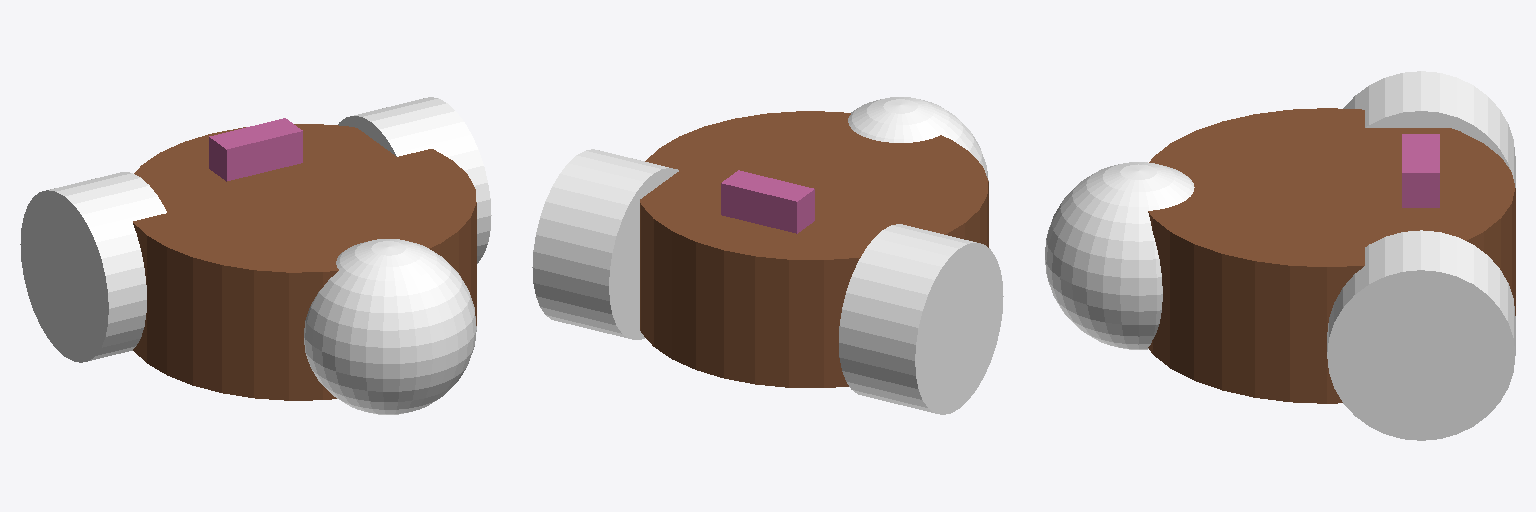
The robot description file, URDF, robot "boties":
<?xml version="1.0"?>

<robot name="boties">
	<material name="white">
		<color rgba="1 1 1 1"/>
	</material>
	<material name="brown">
		<color rgba="0.58 0.39 0.27 1"/>
	</material>
	<material name="pink">
		<color rgba="0.81 0.45 0.67 1"/>
	</material>
	<link name="base_link">
		<visual>
			<geometry>
				<cylinder length="0.08" radius="0.1"/>
			</geometry>
			<material name="brown"/>
		</visual>
		<collision>
			<geometry>
				<cylinder length="0.08" radius="0.1"/>
			</geometry>
		</collision>
		<inertial>
			<mass value="20"/>
			<inertia ixx="0.0168" iyy="0.0168" izz="0.01" ixy="0.0" ixz="0.0" iyz="0.0"/>
		</inertial>
	</link>
	<link name="dummy_link"></link>
	<link name="camera_link">
		<visual>
			<geometry>
				<box size="0.02 0.05 0.02"/>
			</geometry>
			<material name="pink"/>
		</visual>
		<collision>
			<geometry>
				<box size="0.02 0.05 0.02"/>
			</geometry>
		</collision>
	</link>
	<link name="left_wheel">
		<visual>
			<geometry>
				<cylinder length="0.05" radius="0.05"/>
			</geometry>
			<material name="white"/>
		</visual>
		<collision>
			<geometry>
				<cylinder length="0.05" radius="0.05"/>
			</geometry>
		</collision>
		<inertial>
			<mass value="10"/>
			<inertia ixx="0.00625" iyy="0.00625" izz="0.0125" ixy="0.0" ixz="0.0" iyz="0.0"/>
		</inertial>
	</link>
	<link name="right_wheel">
		<visual>
			<geometry>
				<cylinder length="0.05" radius="0.05"/>
			</geometry>
			<material name="white"/>
		</visual>
		<collision>
			<geometry>
				<cylinder length="0.05" radius="0.05"/>
			</geometry>
		</collision>
		<inertial>
			<mass value="10"/>
			<inertia ixx="0.00625" iyy="0.00625" izz="0.0125" ixy="0.0" ixz="0.0" iyz="0.0"/>
		</inertial>
	</link>
	<link name="sphere_link">
		<visual>
			<geometry>
				<sphere radius="0.05"/>
			</geometry>
			<material name="white"/>
		</visual>
		<collision>
			<geometry>
				<sphere radius="0.05"/>
			</geometry>
		</collision>
		<inertial>
			<mass value="20"/>
			<inertia ixx="0.0168" iyy="0.0168" izz="0.01" ixy="0.0" ixz="0.0" iyz="0.0"/>
		</inertial>
	</link>
	<joint name="dummy_joint" type="continuous">
		<parent link="base_link" />
		<child  link="dummy_link" />
	</joint>
	<joint name="camera_joint" type="fixed">
		<axis xyz="0 1 0"/>
		<parent link="base_link"/>
		<child link="camera_link"/>
		<origin rpy="0 0 1.57075" xyz="0 0.05 0.05"/>
	</joint>
	<joint name="baseToLeftWheel_joint" type="continuous">
		<axis   xyz="0 0 1"/>
		<parent link="base_link" />
		<child  link="left_wheel" />
		<origin rpy="0 1.57075 0" xyz="0.1 0.05 0" />
	</joint>
	<joint name="baseToRightWheel_joint" type="continuous">
		<axis   xyz="0 0 1"/>
		<parent link="base_link" />
		<child  link="right_wheel" />
		<origin rpy="0 1.57075 0" xyz="-0.1 0.05 0" />
	</joint>
	<joint name="baseToSphere_joint" type="continuous">
		<axis   xyz="1 1 1"/>
		<parent link="base_link" />
		<child  link="sphere_link" />
		<origin rpy="0 0 0" xyz="0 -0.1 0" />
	</joint>
	<transmission name="leftWheel_trans">
		<type>transmission_interface/SimpleTransmission</type>
		<actuator name="leftWheel_motor">
			<mechanicalReduction>1</mechanicalReduction>
		</actuator>
		<joint name="baseToLeftWheel_joint">
			<hardwareInterface>VelocityJointInterface</hardwareInterface>
		</joint>
	</transmission>
	<transmission name="rightWheel_trans">
		<type>transmission_interface/SimpleTransmission</type>
		<actuator name="rightWheel_motor">
			<mechanicalReduction>1</mechanicalReduction>
		</actuator>
		<joint name="baseToRightWheel_joint">
			<hardwareInterface>VelocityJointInterface</hardwareInterface>
		</joint>
	</transmission>
<!--
	<gazebo reference="camera_link">
		<sensor type="camera" name="primary_camera"/>
		<update_rate>30.0</update_rate>
		<camera name="head">
			<horizontal_fov>1.3962634</horizontal_fov>
			<image>
				<width>800</width>
				<height>800</height>
				<format>R8G8B8</format>
			</image>
			<clip>
				<near>0.02</near>
				<far>300</far>
			</clip>
			<noise>
				<type>gaussian</type>
				<mean>0.0</mean>
				<stddev>0.007</stddev>
			</noise>
		</camera>
		<plugin name="camera_controller" filename="libgazebo_ros_camera.so">
			<alwaysOn>true</alwaysOn>
			<updateRate>0.0</updateRate>
			<cameraName>primary_camera</cameraName>
			<imageTopicName>image_raw</imageTopicName>
			<cameraInfoTopicName>camera_info</cameraInfoTopicName>
			<frameName>/camera_link</frameName>
			<hackBaseline>0.07</hackBaseline>
			<distortionK1>0.0</distortionK1>
			<distortionK2>0.0</distortionK2>
			<distortionK3>0.0</distortionK3>
			<distortionT1>0.0</distortionT1>
			<distortionT2>0.0</distortionT2>
		</plugin>
	</gazebo>
-->
<gazebo reference="camera_link">
  <sensor name="primary_camera" type="depth">
    <update_rate>20</update_rate>
    <camera>
      <horizontal_fov>1.047198</horizontal_fov>
      <image>
        <width>640</width>
        <height>480</height>
        <format>R8G8B8</format>
      </image>
      <clip>
        <near>0.05</near>
        <far>3</far>
      </clip>
    </camera>
    <plugin name="camera_controller" filename="libgazebo_ros_openni_kinect.so">
      <baseline>0.2</baseline>
      <alwaysOn>true</alwaysOn>
      <updateRate>1.0</updateRate>
      <cameraName>primary_camera_ir</cameraName>
      <imageTopicName>/primary_camera/color/image_raw</imageTopicName>
      <cameraInfoTopicName>/primary_camera/color/camera_info</cameraInfoTopicName>
      <depthImageTopicName>/primary_camera/depth/image_raw</depthImageTopicName>
      <depthImageInfoTopicName>/primary_camera/depth/camera_info</depthImageInfoTopicName>
      <pointCloudTopicName>/primary_camera/depth/points</pointCloudTopicName>
      <frameName>camera_link</frameName>
      <pointCloudCutoff>0.5</pointCloudCutoff>
      <pointCloudCutoffMax>3.0</pointCloudCutoffMax>
      <distortionK1>0.00000001</distortionK1>
      <distortionK2>0.00000001</distortionK2>
      <distortionK3>0.00000001</distortionK3>
      <distortionT1>0.00000001</distortionT1>
      <distortionT2>0.00000001</distortionT2>
      <CxPrime>0</CxPrime>
      <Cx>0</Cx>
      <Cy>0</Cy>
      <focalLength>0</focalLength>
      <hackBaseline>0</hackBaseline>
    </plugin>
  </sensor>
</gazebo>
	<gazebo reference="left_wheel">
		<mu1 value="200.0"/>
		<mu2 value="100.0"/>
		<kp value="10000000.0"/>
		<kd value="1.0"/>
		<material>Gazebo/Grey</material>
	</gazebo>
	<gazebo reference="right_wheel">
		<mu1 value="200.0"/>
		<mu2 value="100.0"/>
		<kp value="10000000.0"/>
		<kd value="1.0"/>
		<material>Gazebo/Grey</material>
	</gazebo>
	<gazebo>
		<plugin name="gazebo_ros_control" filename="libgazebo_ros_control.so">
			<robotNamespace></robotNamespace>
		</plugin>
	</gazebo>
</robot>

--- Facts derived from the render (not from the file) ---
3 views of the same robot in one strip: view 1: azimuth 30°, elevation 25°; view 2: azimuth 150°, elevation 25°; view 3: azimuth 270°, elevation 25° (orthographic).
Robot: boties — 6 links, 5 joints (4 continuous, 1 fixed); root link base_link; default pose: every joint at zero.
Links seen in each view (by area): view 1: base_link, sphere_link, right_wheel, left_wheel, camera_link; view 2: base_link, right_wheel, left_wheel, sphere_link, camera_link; view 3: base_link, left_wheel, sphere_link, right_wheel, camera_link.
Link boxes in pixels (box(x1,y1,x2,y2)): base_link: box(133, 124, 476, 400); sphere_link: box(304, 239, 476, 414); right_wheel: box(20, 172, 166, 362); left_wheel: box(338, 97, 491, 263); camera_link: box(209, 118, 302, 181); base_link: box(640, 111, 988, 387); right_wheel: box(839, 224, 1003, 414); left_wheel: box(532, 149, 678, 339); sphere_link: box(848, 97, 988, 180); camera_link: box(721, 170, 814, 233); base_link: box(1148, 108, 1515, 403); left_wheel: box(1327, 230, 1515, 440); sphere_link: box(1045, 162, 1194, 349); right_wheel: box(1343, 71, 1515, 187); camera_link: box(1402, 134, 1439, 207).
Bounding box of the posed robot: 0.25 × 0.25 × 0.11 m (x, y, z).
Geometry: primitives only (box / cylinder / sphere), no mesh files.
